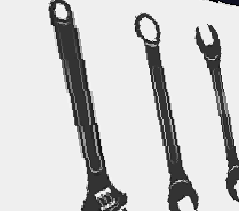Wrench: (36, 1, 128, 195), (129, 10, 201, 211), (192, 23, 239, 199)
